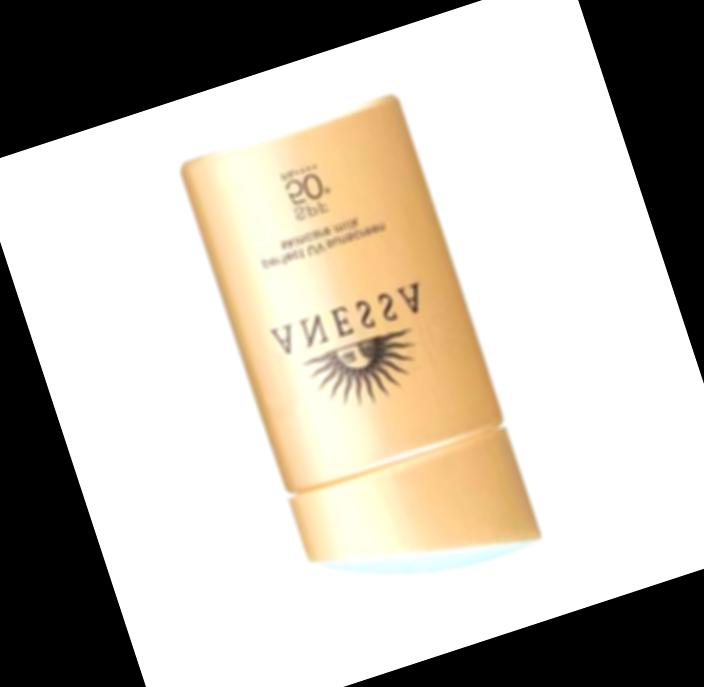cosmetic: (181, 96, 546, 613)
